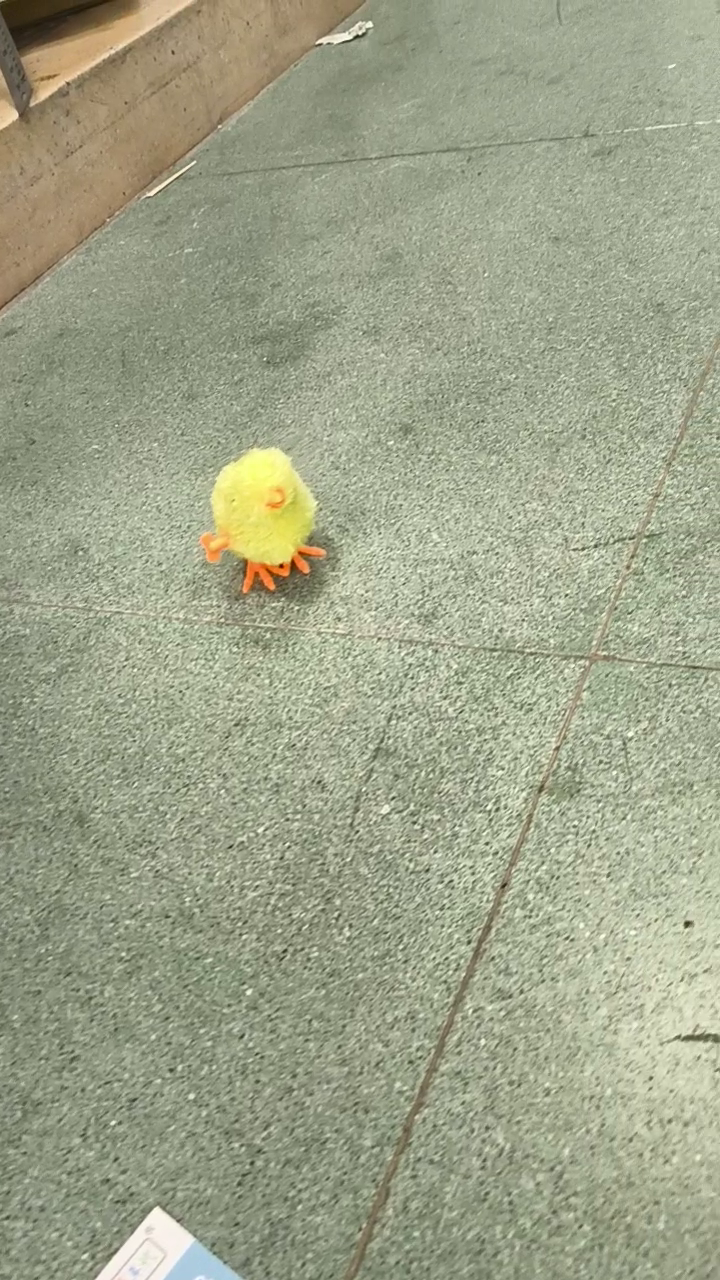yellow chicken: (196, 444, 329, 597)
